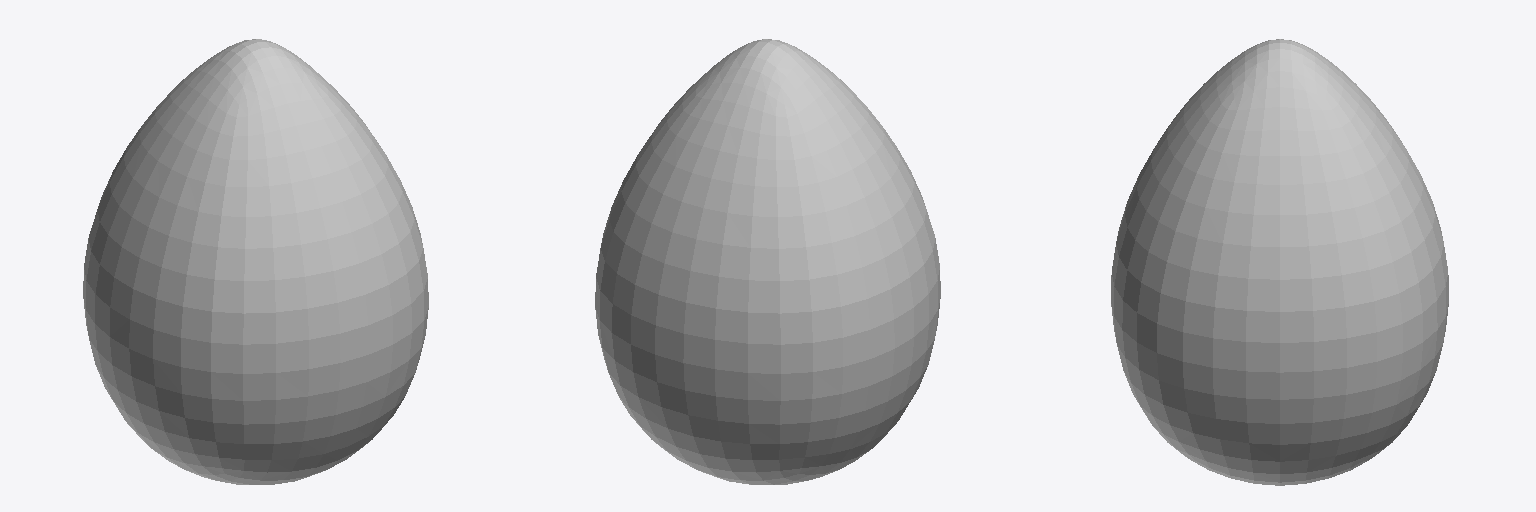
The model's file is oeuf.obj.
The picture shows the model from 3 angles: view 1: azimuth 30°, elevation 25°; view 2: azimuth 150°, elevation 25°; view 3: azimuth 270°, elevation 25°; orthographic projection.
Parts seen in each view (by area): view 1: Default; view 2: Default; view 3: Default.
Boxes of the visible parts, x1=… form: Default: x1=83, y1=39, x2=428, y2=484; Default: x1=595, y1=39, x2=940, y2=484; Default: x1=1111, y1=39, x2=1448, y2=485.
Bounding box in the file's own units: 1.21 × 1.69 × 1.21.